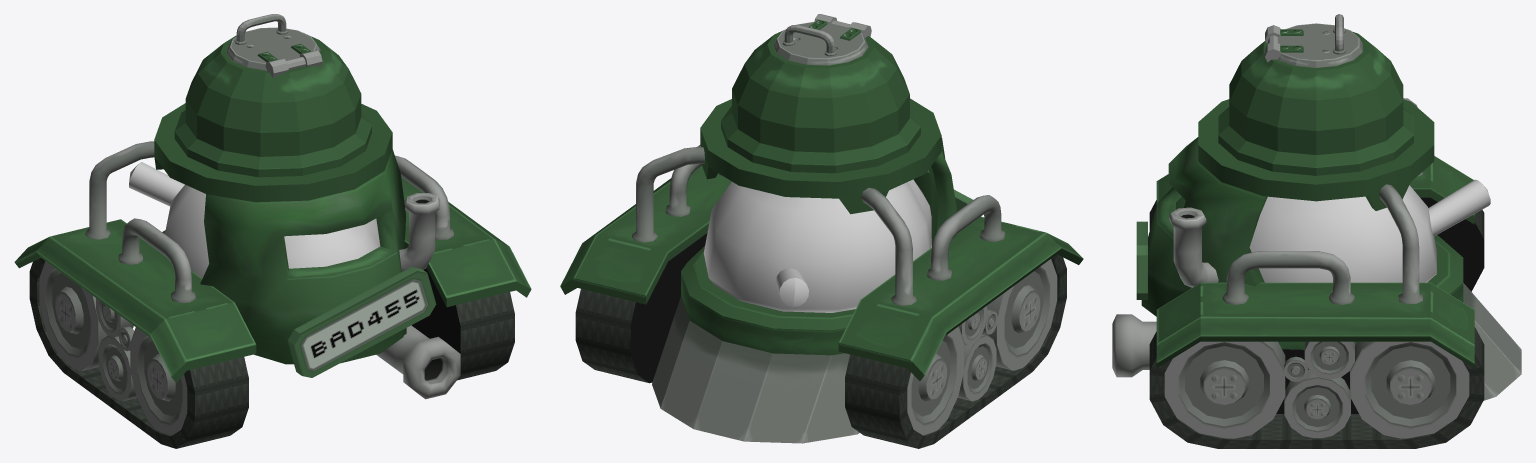
File: Blob Tank.fbx
3 renders of one model, left to right at view 1: azimuth 30°, elevation 25°; view 2: azimuth 150°, elevation 25°; view 3: azimuth 270°, elevation 25°, orthographic.
Parts seen in each view (by area): view 1: Tank_Base1, Turret_Base, Tank_Shiny_Parts1, Left_Treads, Blob1, Wheel_1, Right_Treads, Wheel_2, Wheel_4, Cigar, Wheel_3; view 2: Tank_Base1, Turret_Base, Blob1, Tank_Shiny_Parts1, Left_Treads, Wheel_2, Right_Treads, Wheel_1, Wheel_4, Cigar, Wheel_3; view 3: Tank_Base1, Turret_Base, Blob1, Tank_Shiny_Parts1, Wheel_7, Wheel_6, Right_Treads, Wheel_9, Cigar, Wheel_8, Wheel_10.
Boxes of the visible parts, x1=… form: Tank_Base1: x1=14, y1=103, x2=531, y2=382; Turret_Base: x1=174, y1=14, x2=371, y2=177; Tank_Shiny_Parts1: x1=85, y1=141, x2=460, y2=399; Left_Treads: x1=29, y1=258, x2=248, y2=448; Blob1: x1=165, y1=184, x2=380, y2=278; Wheel_1: x1=39, y1=261, x2=107, y2=371; Right_Treads: x1=456, y1=292, x2=514, y2=380; Wheel_2: x1=130, y1=327, x2=187, y2=435; Wheel_4: x1=98, y1=335, x2=136, y2=401; Cigar: x1=129, y1=162, x2=184, y2=206; Wheel_3: x1=96, y1=298, x2=133, y2=337; Tank_Base1: x1=560, y1=98, x2=1083, y2=443; Turret_Base: x1=721, y1=14, x2=920, y2=173; Blob1: x1=703, y1=179, x2=931, y2=312; Tank_Shiny_Parts1: x1=632, y1=145, x2=1005, y2=305; Left_Treads: x1=845, y1=254, x2=1066, y2=448; Wheel_2: x1=982, y1=259, x2=1057, y2=370; Right_Treads: x1=575, y1=289, x2=648, y2=382; Wheel_1: x1=907, y1=326, x2=964, y2=435; Wheel_4: x1=957, y1=333, x2=996, y2=401; Cigar: x1=776, y1=268, x2=808, y2=306; Wheel_3: x1=959, y1=306, x2=987, y2=345; Tank_Base1: x1=1136, y1=99, x2=1521, y2=413; Turret_Base: x1=1218, y1=14, x2=1413, y2=175; Blob1: x1=1249, y1=185, x2=1436, y2=282; Tank_Shiny_Parts1: x1=1112, y1=98, x2=1422, y2=377; Wheel_7: x1=1164, y1=341, x2=1285, y2=438; Wheel_6: x1=1350, y1=341, x2=1469, y2=438; Right_Treads: x1=1149, y1=327, x2=1484, y2=448; Wheel_9: x1=1284, y1=370, x2=1350, y2=438; Cigar: x1=1428, y1=179, x2=1490, y2=236; Wheel_8: x1=1304, y1=341, x2=1354, y2=379; Wheel_10: x1=1284, y1=356, x2=1307, y2=381.
Size of the model in its own units: 5.18 by 4.73 by 5.03.
